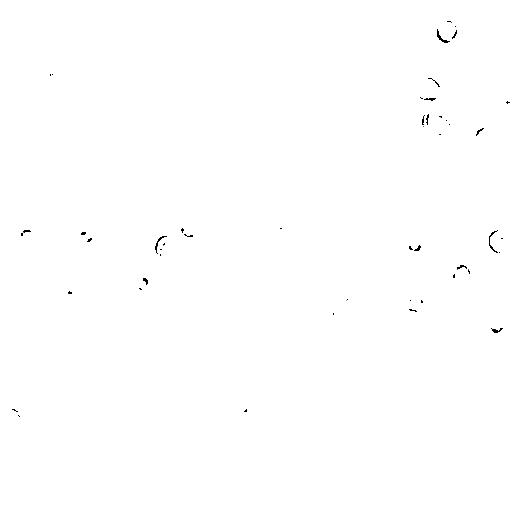micro-algae: (348, 31, 452, 129), (67, 117, 162, 209), (75, 71, 148, 146), (413, 49, 484, 122), (246, 1, 311, 62), (226, 134, 265, 178), (81, 265, 117, 301), (392, 282, 422, 318), (420, 105, 452, 138), (38, 65, 69, 97), (140, 151, 170, 183), (220, 258, 250, 290), (227, 392, 257, 422), (448, 257, 475, 289), (487, 226, 511, 257), (471, 126, 500, 151), (192, 413, 219, 439), (157, 234, 182, 262), (483, 60, 509, 86), (434, 448, 460, 474), (415, 77, 442, 101), (142, 255, 169, 279), (296, 8, 322, 30), (56, 280, 82, 302), (436, 21, 459, 45), (316, 302, 338, 327), (238, 137, 259, 159), (404, 291, 425, 312), (179, 161, 198, 183), (19, 227, 38, 248), (75, 228, 96, 246), (3, 408, 22, 427), (355, 20, 372, 41), (336, 424, 356, 441), (499, 85, 512, 111), (179, 222, 200, 238), (488, 317, 505, 335), (64, 499, 89, 511), (274, 227, 290, 243), (232, 6, 249, 21), (344, 296, 357, 314), (270, 246, 287, 259), (134, 275, 148, 290), (407, 239, 422, 252)
